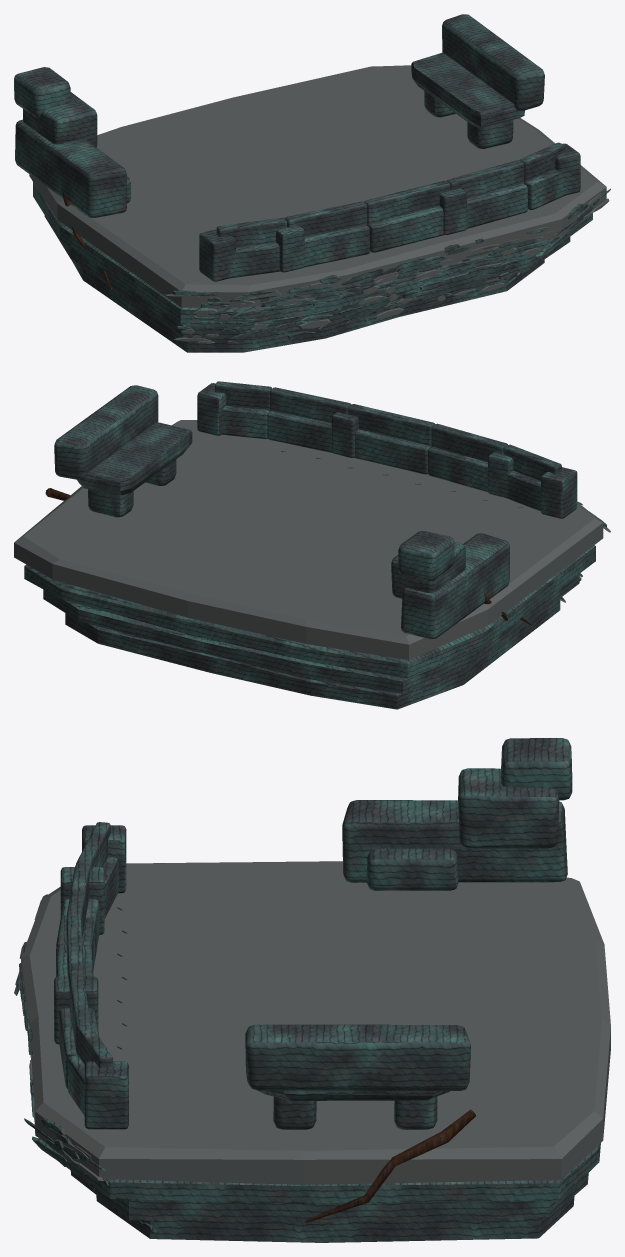
File: vein_overlook_balcony_refined.glb
3 views of the same model, one above another, from view 1: azimuth 30°, elevation 25°; view 2: azimuth 150°, elevation 25°; view 3: azimuth 270°, elevation 25° (orthographic). The views are drawn at different scales.
Parts seen in each view (by area): view 1: Quarry rock course 4, Fractured laminae and edge spalls 1, Remaining quarry spine 1, Quarry rock course 3, Bench rough back, Quarry rock course 1, Carved lookout seat, Quarry rock course 2, Fractured laminae and edge spalls 2, Remaining quarry spine 2, Cut guard base 3, Remaining quarry spine 3 (+14 smaller); view 2: Quarry rock course 4, Quarry rock course 3, Quarry rock course 2, Quarry rock course 1, Remaining quarry spine 1, Bench rough back, Carved lookout seat, Remaining quarry spine 3, Cut guard base 3, Cut guard base 4, Guard cap 3, Cut guard base 2 (+12 smaller); view 3: Quarry rock course 4, Bench rough back, Remaining quarry spine 1, Quarry rock course 3, Quarry rock course 1, Quarry rock course 2, Remaining quarry spine 2, Remaining quarry spine 4, Remaining quarry spine 3, Cut parapet post 2.14, Fractured laminae and edge spalls 1, Receding ravine root (+16 smaller).
Part boxes in pixels (x1,y1,x2,y2): Quarry rock course 4: [29, 65, 606, 307]; Fractured laminae and edge spalls 1: [172, 188, 610, 347]; Remaining quarry spine 1: [15, 119, 126, 217]; Quarry rock course 3: [33, 182, 592, 324]; Bench rough back: [442, 14, 544, 110]; Quarry rock course 1: [71, 259, 544, 352]; Carved lookout seat: [411, 52, 524, 128]; Quarry rock course 2: [44, 215, 570, 337]; Fractured laminae and edge spalls 2: [165, 193, 609, 343]; Remaining quarry spine 2: [23, 92, 97, 147]; Cut guard base 3: [368, 206, 443, 252]; Remaining quarry spine 3: [14, 67, 70, 118]; Quarry rock course 4: [14, 420, 603, 659]; Quarry rock course 3: [24, 545, 595, 678]; Quarry rock course 2: [43, 574, 579, 693]; Quarry rock course 1: [65, 599, 560, 709]; Remaining quarry spine 1: [401, 533, 509, 639]; Bench rough back: [54, 385, 158, 479]; Carved lookout seat: [77, 422, 192, 495]; Remaining quarry spine 3: [398, 531, 454, 580]; Cut guard base 3: [354, 429, 430, 474]; Cut guard base 4: [267, 411, 332, 452]; Guard cap 3: [348, 404, 434, 447]; Cut guard base 2: [427, 447, 487, 492]; Quarry rock course 4: [21, 861, 610, 1184]; Bench rough back: [245, 1024, 470, 1090]; Remaining quarry spine 1: [342, 800, 567, 882]; Quarry rock course 3: [48, 1143, 600, 1203]; Quarry rock course 1: [96, 1195, 574, 1242]; Quarry rock course 2: [70, 1170, 588, 1222]; Remaining quarry spine 2: [458, 768, 559, 848]; Remaining quarry spine 4: [366, 848, 458, 890]; Remaining quarry spine 3: [501, 738, 572, 800]; Cut parapet post 2.14: [84, 1061, 128, 1129]; Fractured laminae and edge spalls 1: [14, 894, 156, 1233]; Receding ravine root: [305, 1109, 475, 1222].
Bounding box in the file's own units: 5.59 × 2.13 × 4.59.
Materials: 3 (2 with a texture image).
